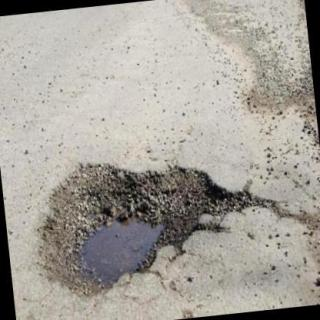pothole: (42, 164, 277, 298)
